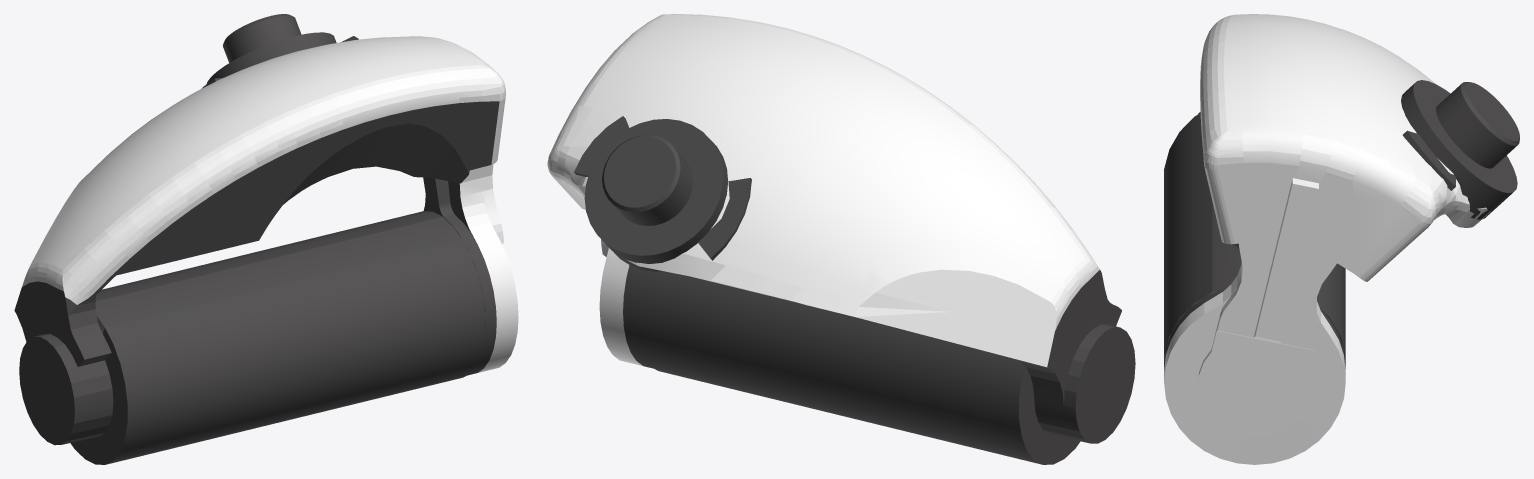
Rendered from RHipYawPitch.dae.
3 views of the same model, side by side, from view 1: azimuth 30°, elevation 25°; view 2: azimuth 150°, elevation 25°; view 3: azimuth 270°, elevation 25° (orthographic). The views are drawn at different scales.
Visible parts, largest first — view 1: RHipYawPitch; view 2: RHipYawPitch; view 3: RHipYawPitch.
Part boxes in pixels (x1,y1,x2,y2): RHipYawPitch: (14,14,518,464); RHipYawPitch: (547,14,1135,464); RHipYawPitch: (1164,14,1519,464).
Bounding box in the file's own units: 0.828 × 0.5298 × 0.5674.
1 material, 1 textured.
